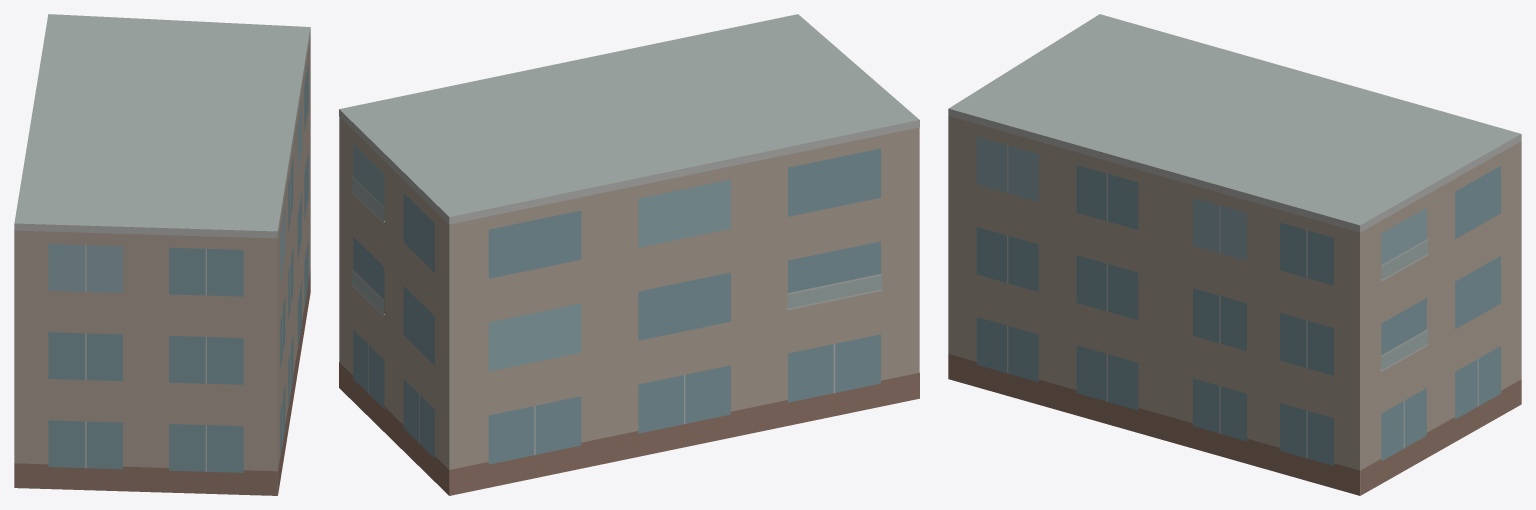
File: survey-upis-32707485.glb
3 renders of one model, left to right at view 1: azimuth 30°, elevation 25°; view 2: azimuth 150°, elevation 25°; view 3: azimuth 270°, elevation 25°, orthographic. The views are drawn at different scales.
Visible parts, largest first — view 1: survey-upis-32707485.tmp; view 2: survey-upis-32707485.tmp; view 3: survey-upis-32707485.tmp.
Part boxes in pixels (x1,y1,x2,y2): survey-upis-32707485.tmp: (14,14,310,495); survey-upis-32707485.tmp: (339,14,919,495); survey-upis-32707485.tmp: (948,14,1521,495).
Bounding box in the file's own units: 15.35 × 9.15 × 17.58.
